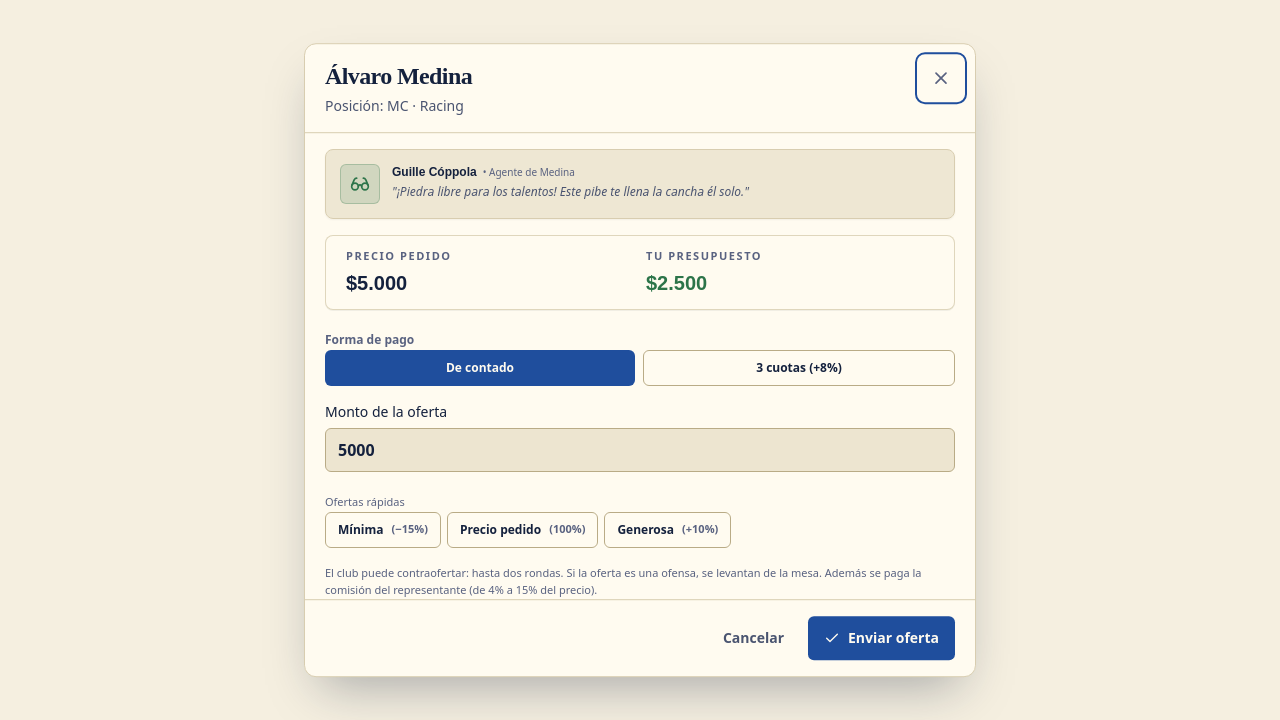
Test: negociación del fichaje › en 3 cuotas sube el precio 8%, explica el plan y solo exige el 40% en la caja
The image size is (1280, 720).
Click the radio button labelled "3 cuotas (+8%)" at (799, 368), box x1=643 y1=350 x2=955 y2=386
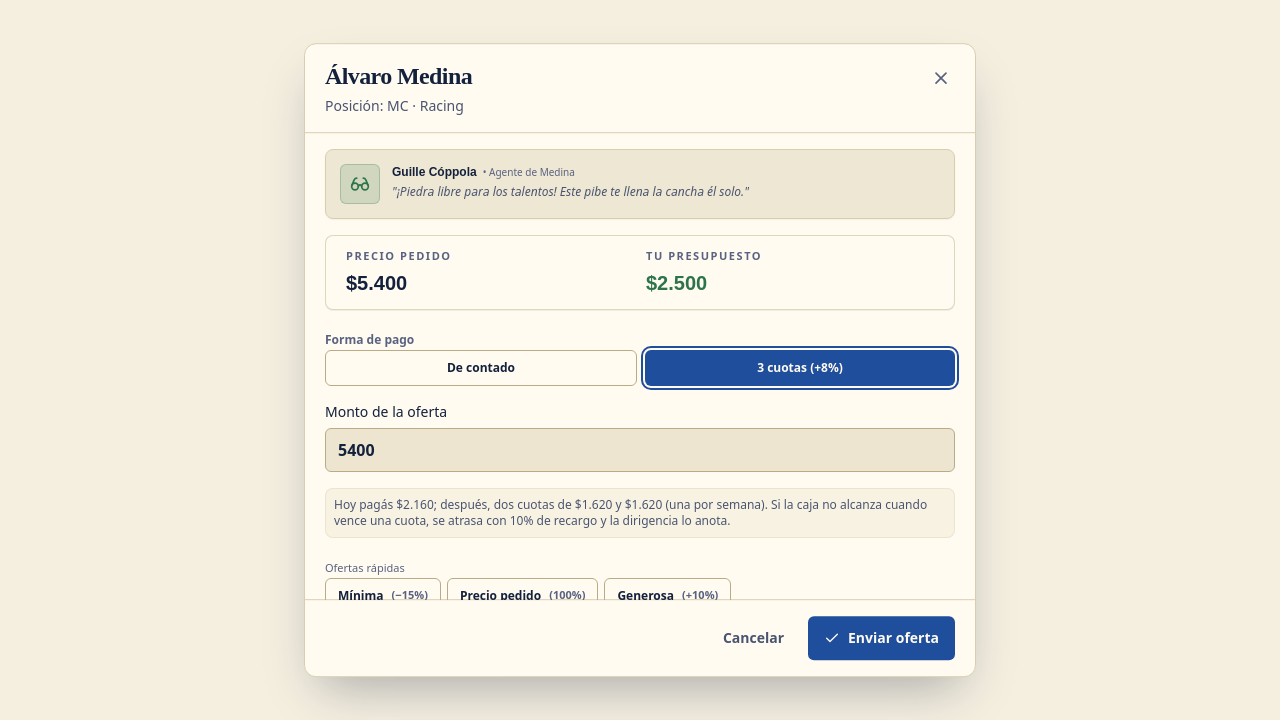
Expected: the number field labelled "Monto de la oferta" holds "5400", x1=325 y1=428 x2=955 y2=472
Expected: the text "dos cuotas de" is shown, x1=434 y1=496 x2=575 y2=513
Click the button "Enviar oferta" at (882, 638), box x1=808 y1=616 x2=955 y2=660
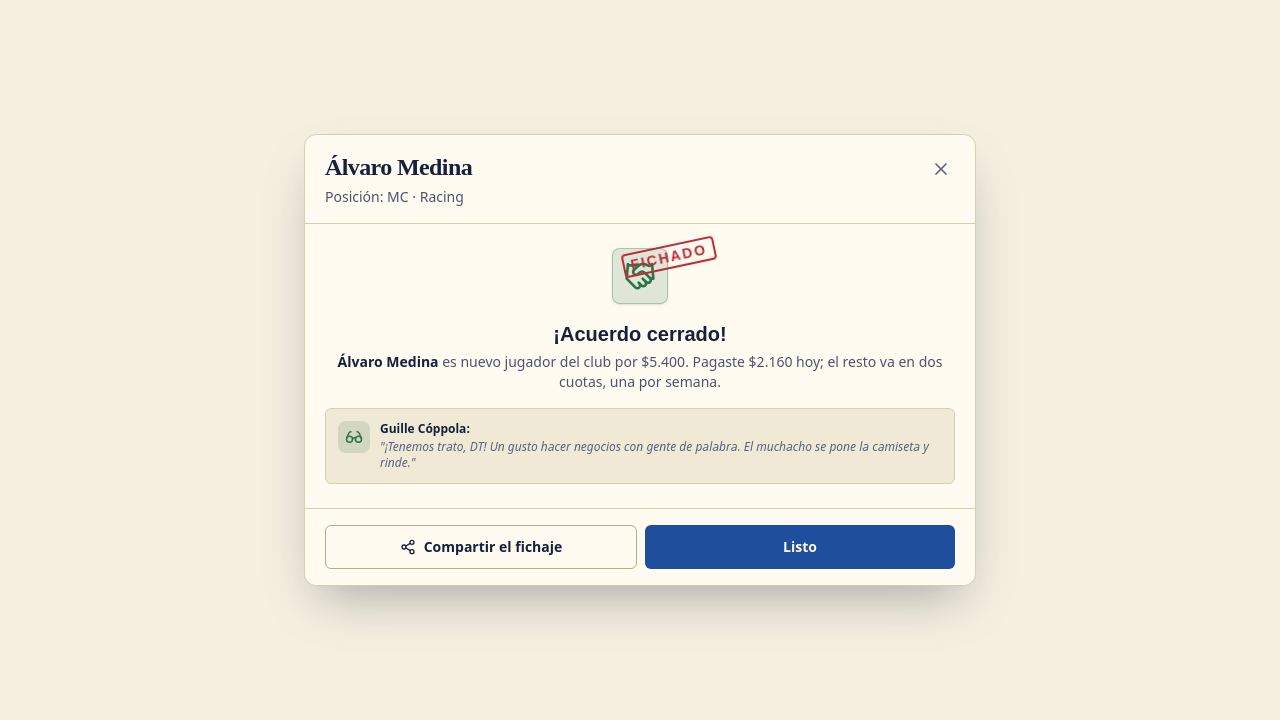
Expected: the text "el resto va en dos cuotas" is shown, x1=559 y1=352 x2=942 y2=391
